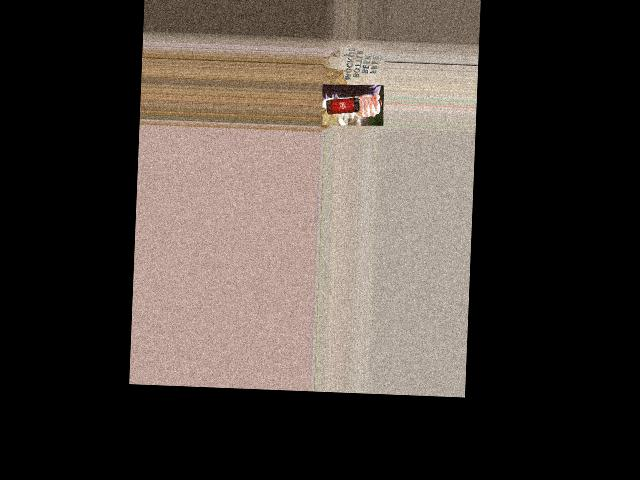beer: (325, 96, 381, 116)
